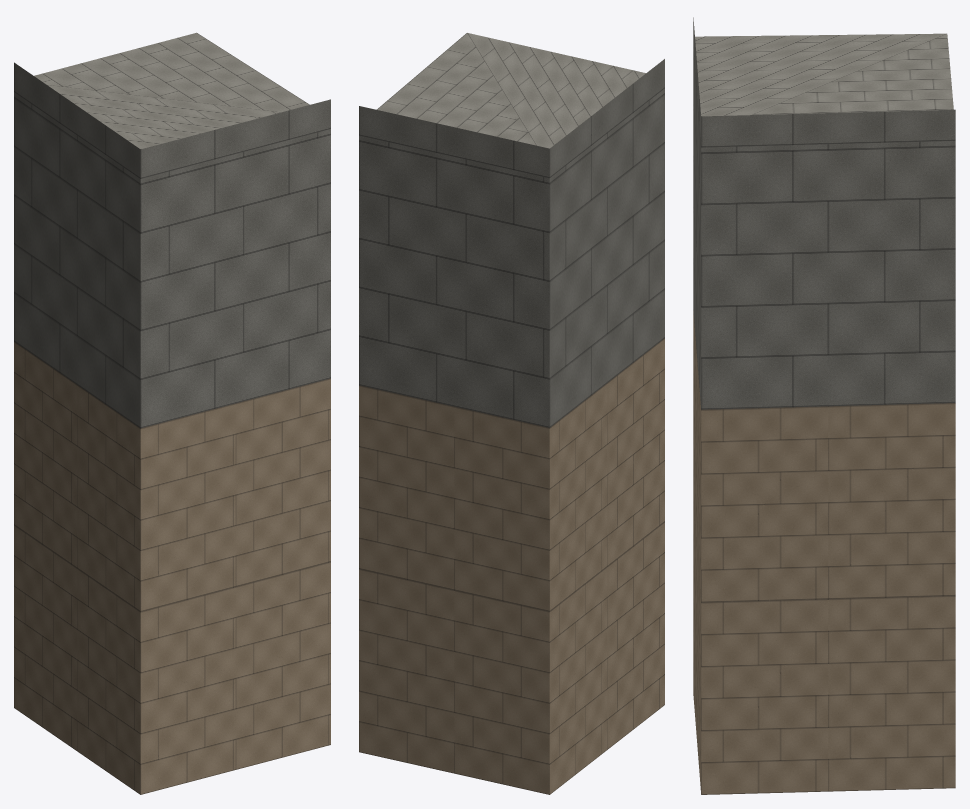
The model's file is bld_c13_6_548.gltf.
3 renders of one model, left to right at view 1: azimuth 30°, elevation 25°; view 2: azimuth 150°, elevation 25°; view 3: azimuth 270°, elevation 25°, orthographic. The views are drawn at different scales.
Visible parts, largest first — view 1: bld_c13_6_548; view 2: bld_c13_6_548; view 3: bld_c13_6_548.
Boxes of the visible parts, x1,y1,x2,y2 form: bld_c13_6_548: (14, 32, 330, 794); bld_c13_6_548: (359, 33, 664, 794); bld_c13_6_548: (693, 17, 955, 794).
Size of the model in its own units: 2.68 by 8.28 by 2.9.
Materials: 4 (4 with a texture image).
